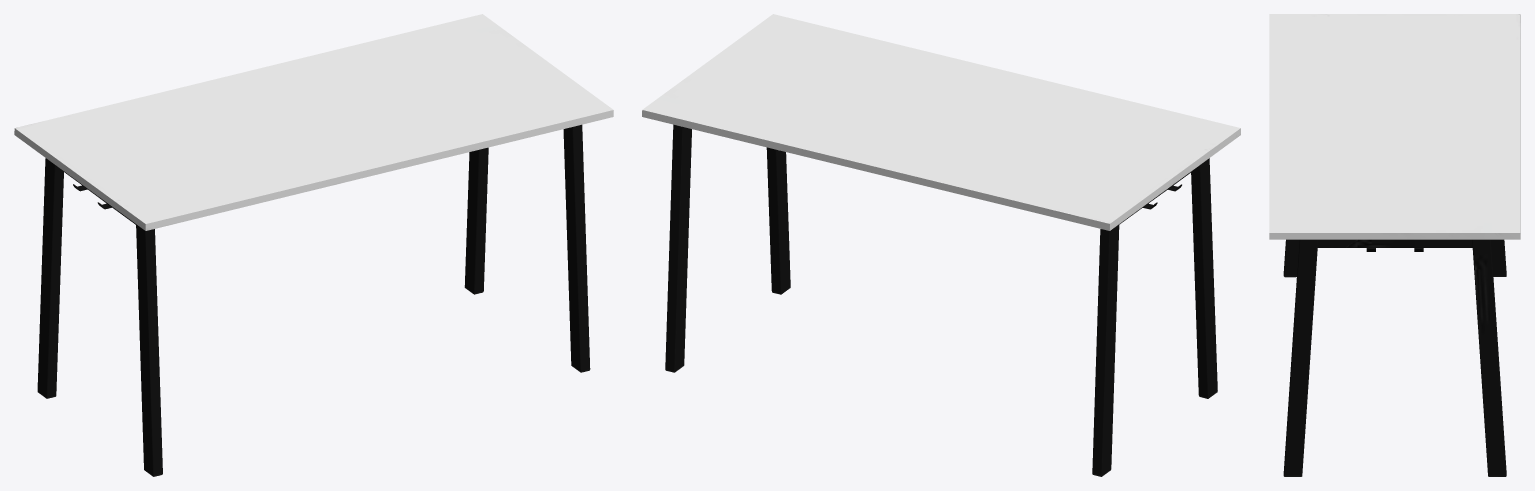
The model's file is 107 - MITTZON - 會議桌, 白色黑色, 140x68x75 公分 IKEA 線上購物.glb.
3 renders of one model, left to right at view 1: azimuth 30°, elevation 25°; view 2: azimuth 150°, elevation 25°; view 3: azimuth 270°, elevation 25°, orthographic. The views are drawn at different scales.
Parts seen in each view (by area): view 1: Mesh_0; view 2: Mesh_0; view 3: Mesh_0.
Boxes of the visible parts, bbox=[...] form: Mesh_0: bbox=[14, 14, 613, 476]; Mesh_0: bbox=[642, 14, 1240, 476]; Mesh_0: bbox=[1269, 14, 1520, 476].
Size of the model in its own units: 1.4 by 0.7496 by 0.6791.
Materials: 1 (1 with a texture image).
